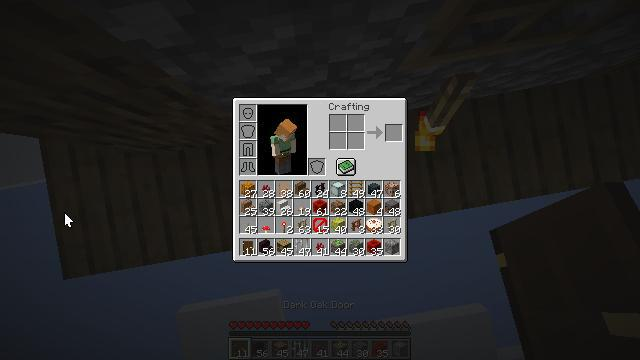cursor: (212, 64, 228, 74)
